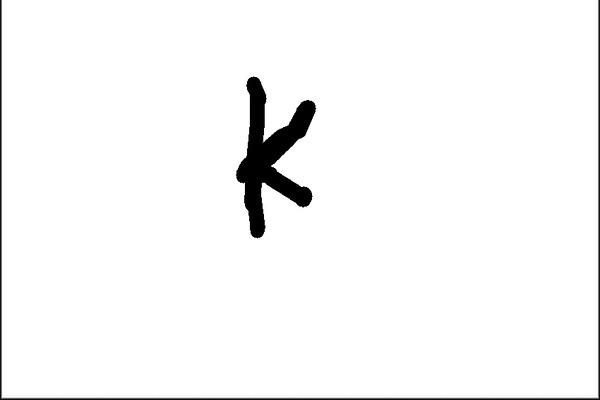K: (229, 67, 322, 241)
